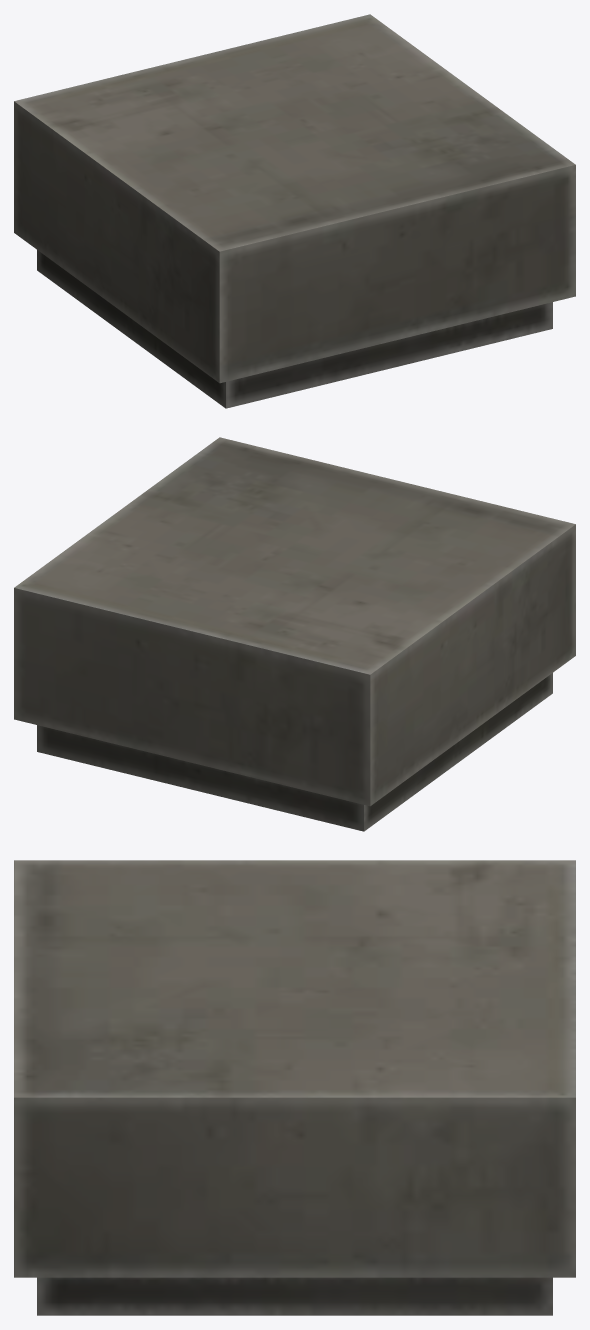
The model's file is pier_head.glb.
The picture shows the model from 3 angles, top to bottom: view 1: azimuth 30°, elevation 25°; view 2: azimuth 150°, elevation 25°; view 3: azimuth 270°, elevation 25°; orthographic projection. The views are drawn at different scales.
Visible parts, largest first — view 1: te_pier_head; view 2: te_pier_head; view 3: te_pier_head.
Boxes of the visible parts, x1,y1,x2,y2 form: te_pier_head: [14, 14, 575, 408]; te_pier_head: [14, 437, 575, 831]; te_pier_head: [14, 860, 575, 1315].
Bounding box in the file's own units: 0.17 × 0.076 × 0.17.
1 material, 1 textured.
